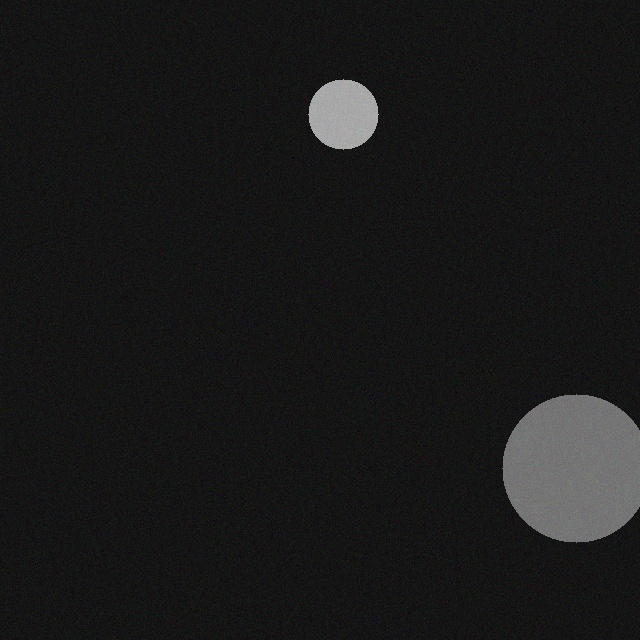circle: (488, 395, 636, 543), (294, 80, 364, 150)
